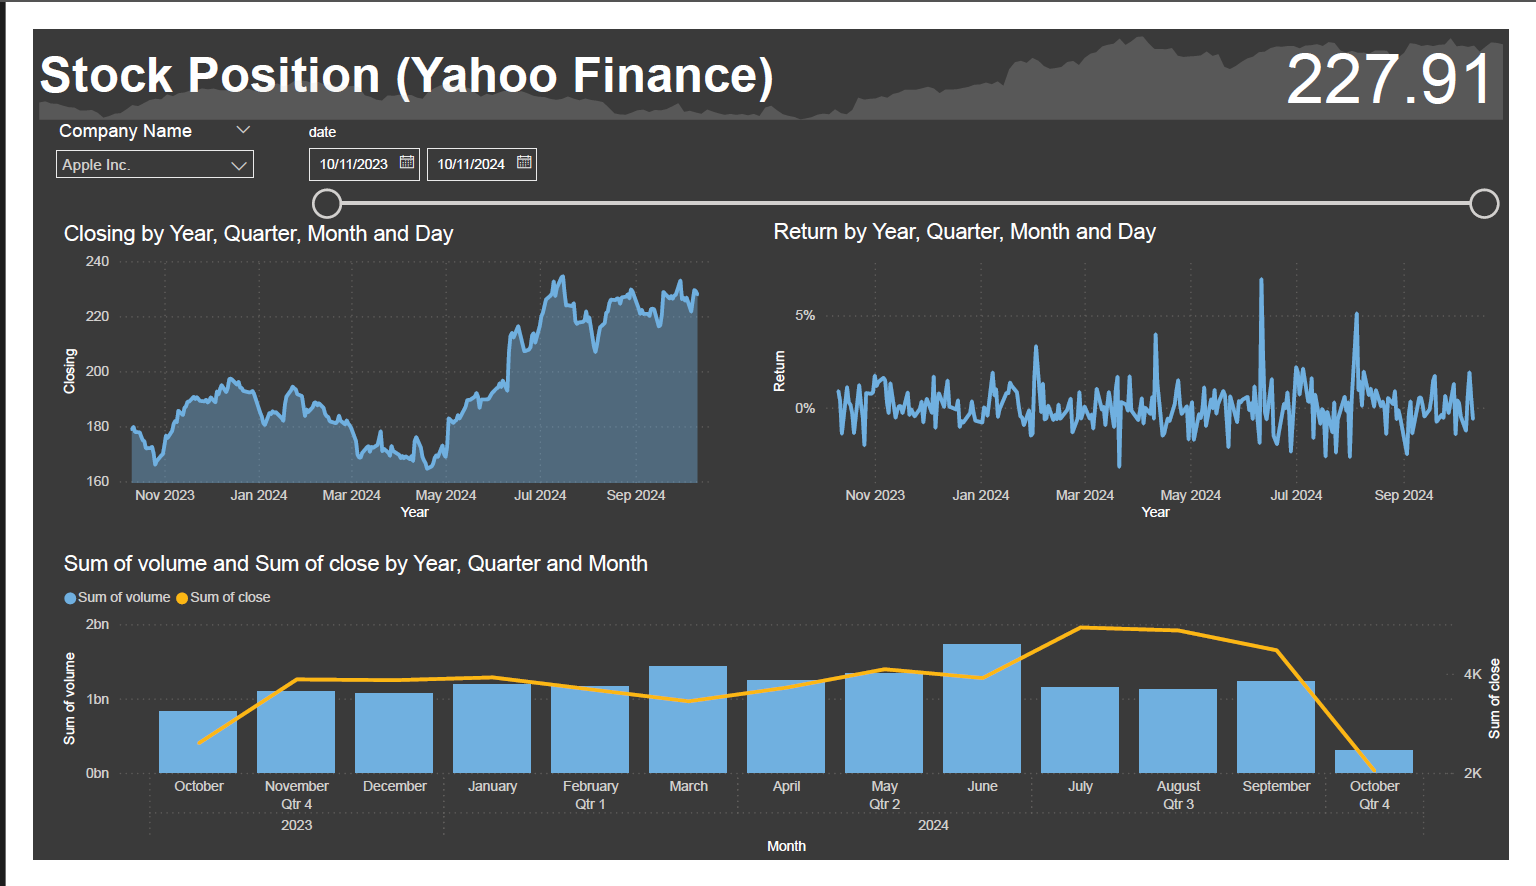

The dashboard page shown, as its layout file describes it:
{"tool":"powerbi","page":{"name":"Page 1","canvas":[1280,720],"ordinal":0},"visuals":[{"type":"textbox","box":[0,10.1,753.3,64.4],"z":0},{"type":"slicer","fields":{"Values":["kafka_stock_market_thanos.date"]},"box":[226.3,77.4,1054,88.5],"z":1000},{"type":"areaChart","fields":{"Category":["kafka_stock_market_thanos.date.Variation.Date Hierarchy.Year","kafka_stock_market_thanos.date.Variation.Date Hierarchy.Quarter","kafka_stock_market_thanos.date.Variation.Date Hierarchy.Month","kafka_stock_market_thanos.date.Variation.Date Hierarchy.Day"],"Y":["Sum(kafka_stock_market_thanos.close)"]},"box":[21.1,166,586.4,264.5],"z":2000},{"type":"lineClusteredColumnComboChart","fields":{"Y":["Sum(kafka_stock_market_thanos.volume)"],"Y2":["Sum(kafka_stock_market_thanos.close)"],"Category":["kafka_stock_market_thanos.date.Variation.Date Hierarchy.Year","kafka_stock_market_thanos.date.Variation.Date Hierarchy.Quarter","kafka_stock_market_thanos.date.Variation.Date Hierarchy.Month"]},"box":[21.1,452.6,1259.2,267.5],"z":3000},{"type":"slicer","fields":{"Values":["kafka_stock_market_thanos.company_name"]},"box":[9.1,74.4,192.1,58.3],"z":4000},{"type":"lineChart","fields":{"Category":["kafka_stock_market_thanos.date.Variation.Date Hierarchy.Year","kafka_stock_market_thanos.date.Variation.Date Hierarchy.Quarter","kafka_stock_market_thanos.date.Variation.Date Hierarchy.Month","kafka_stock_market_thanos.date.Variation.Date Hierarchy.Day"],"Y":["kafka_stock_market_thanos.Return"]},"box":[636.7,164.9,643.7,265.5],"z":5000},{"type":"kpi","fields":{"Indicator":["Sum(kafka_stock_market_thanos.close)"],"TrendLine":["kafka_stock_market_thanos.date"]},"box":[0,1,1280.3,82.5],"z":6000}]}

Visuals, with their boxes in screenshot pixels (x1, y1, x2, y2), scaled from the page's 1280x720 canvas onto the 1536x886 screenshot:
textbox: <box>0,12,904,92</box>
slicer - kafka_stock_market_thanos.date: <box>272,95,1535,204</box>
areaChart - kafka_stock_market_thanos.date.Variation.Date Hierarchy.Year x kafka_stock_market_thanos.date.Variation.Date Hierarchy.Quarter: <box>25,204,729,530</box>
lineClusteredColumnComboChart - Sum(kafka_stock_market_thanos.volume) x Sum(kafka_stock_market_thanos.close): <box>25,557,1535,885</box>
slicer - kafka_stock_market_thanos.company_name: <box>11,92,241,163</box>
lineChart - kafka_stock_market_thanos.date.Variation.Date Hierarchy.Year x kafka_stock_market_thanos.date.Variation.Date Hierarchy.Quarter: <box>764,203,1535,530</box>
kpi - Sum(kafka_stock_market_thanos.close) x kafka_stock_market_thanos.date: <box>0,1,1535,103</box>
